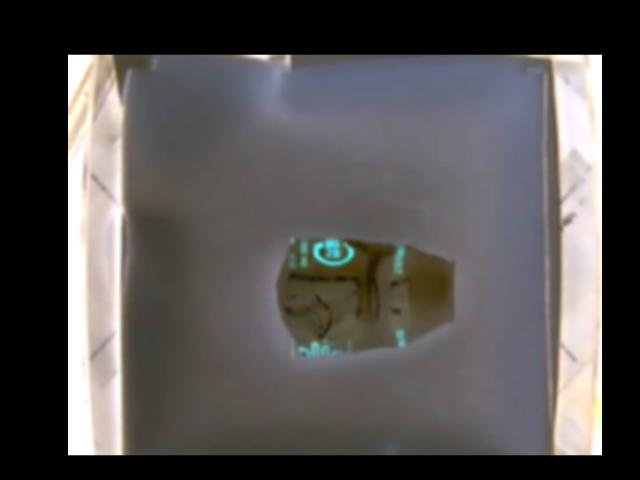Bottle: (273, 235, 456, 357)
